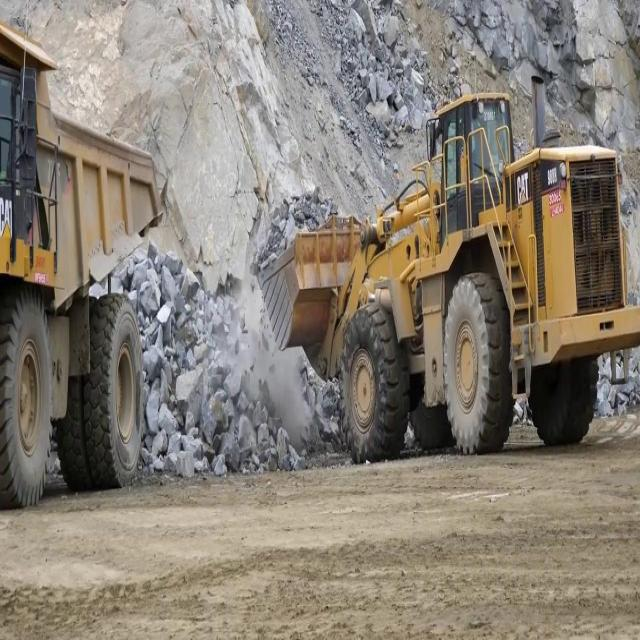buldozerpayloadergrader: (252, 59, 640, 470)
dump_truck: (0, 26, 162, 505)
